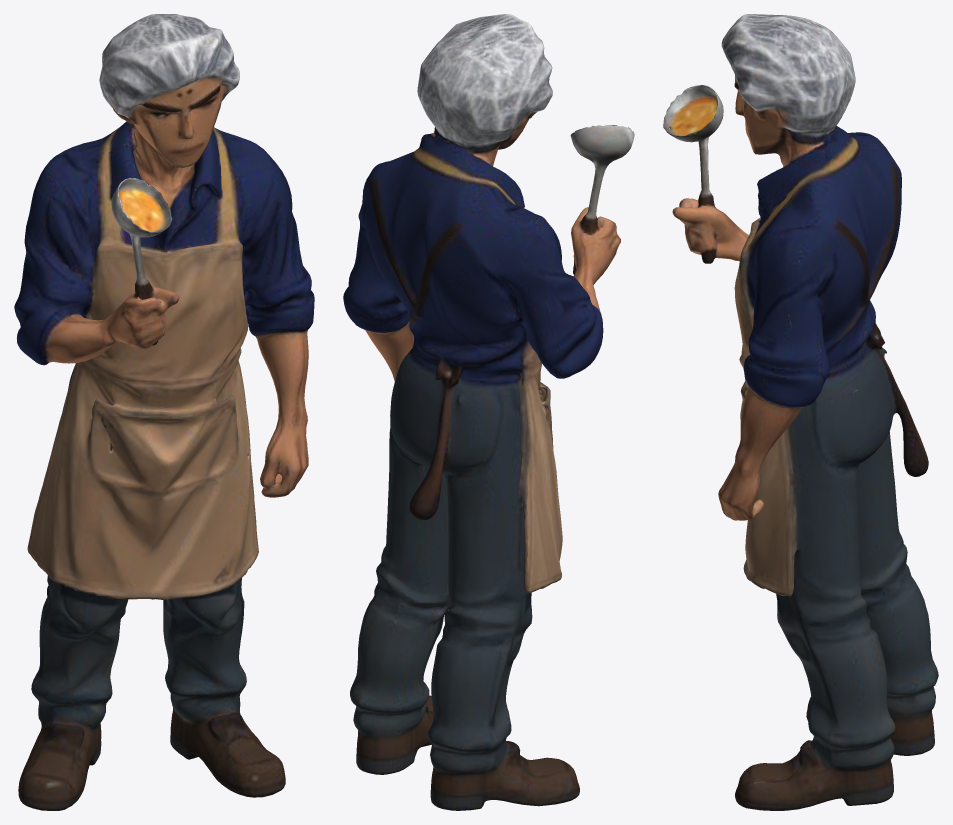
The model's file is agatha_volunteer.glb.
3 views of the same model, side by side, from view 1: azimuth 30°, elevation 25°; view 2: azimuth 150°, elevation 25°; view 3: azimuth 270°, elevation 25° (orthographic). The views are drawn at different scales.
Size of the model in its own units: 0.3236 by 0.8796 by 0.2944.
1 material, 1 textured.
